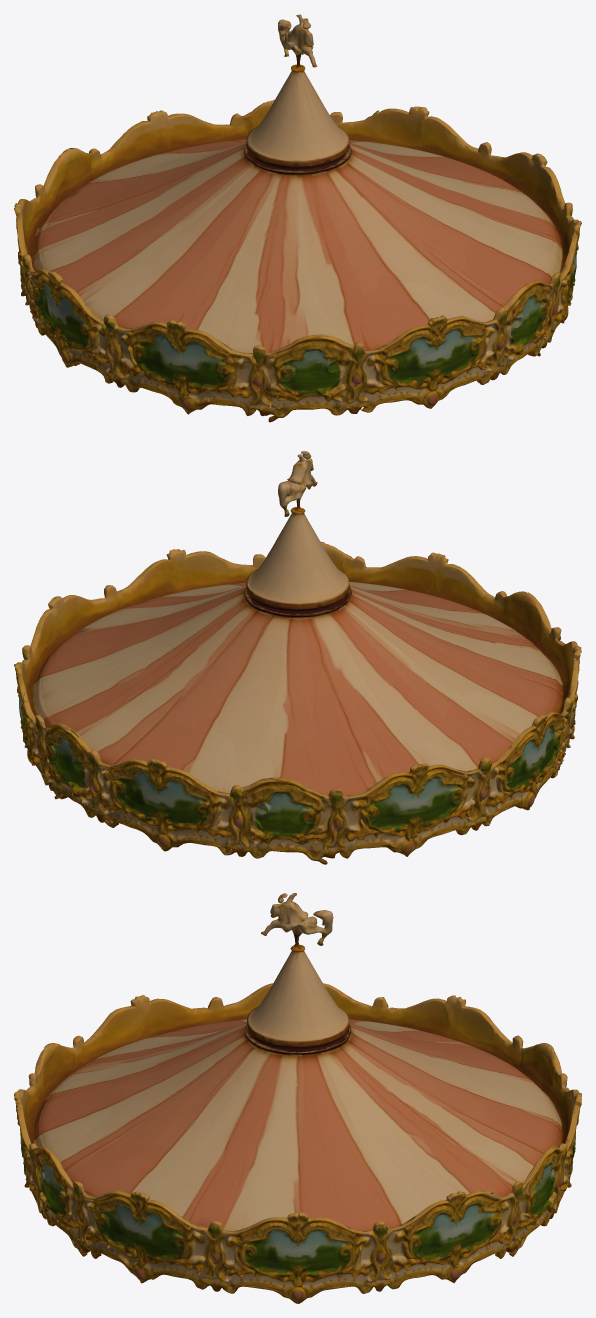
File: techoCarrusel.fbx
The picture shows the model from 3 angles, top to bottom: view 1: azimuth 30°, elevation 25°; view 2: azimuth 150°, elevation 25°; view 3: azimuth 270°, elevation 25°; orthographic projection.
Parts seen in each view (by area): view 1: tripo_node_6940f8bf; view 2: tripo_node_6940f8bf; view 3: tripo_node_6940f8bf.
Boxes of the visible parts, x1,y1,x2,y2 form: tripo_node_6940f8bf: [14, 14, 581, 422]; tripo_node_6940f8bf: [14, 451, 581, 864]; tripo_node_6940f8bf: [14, 893, 581, 1303].
Size of the model in its own units: 0.9988 by 0.6567 by 0.9999.
1 material, 1 textured.
